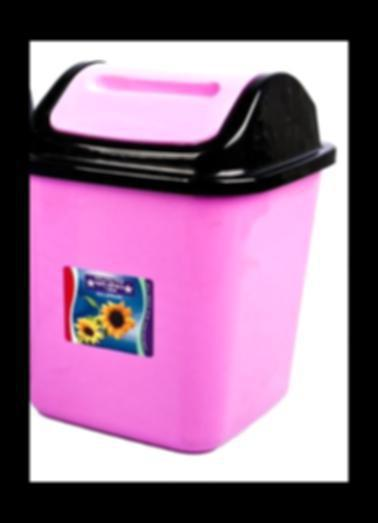Bote de Basura: (30, 61, 321, 450)
